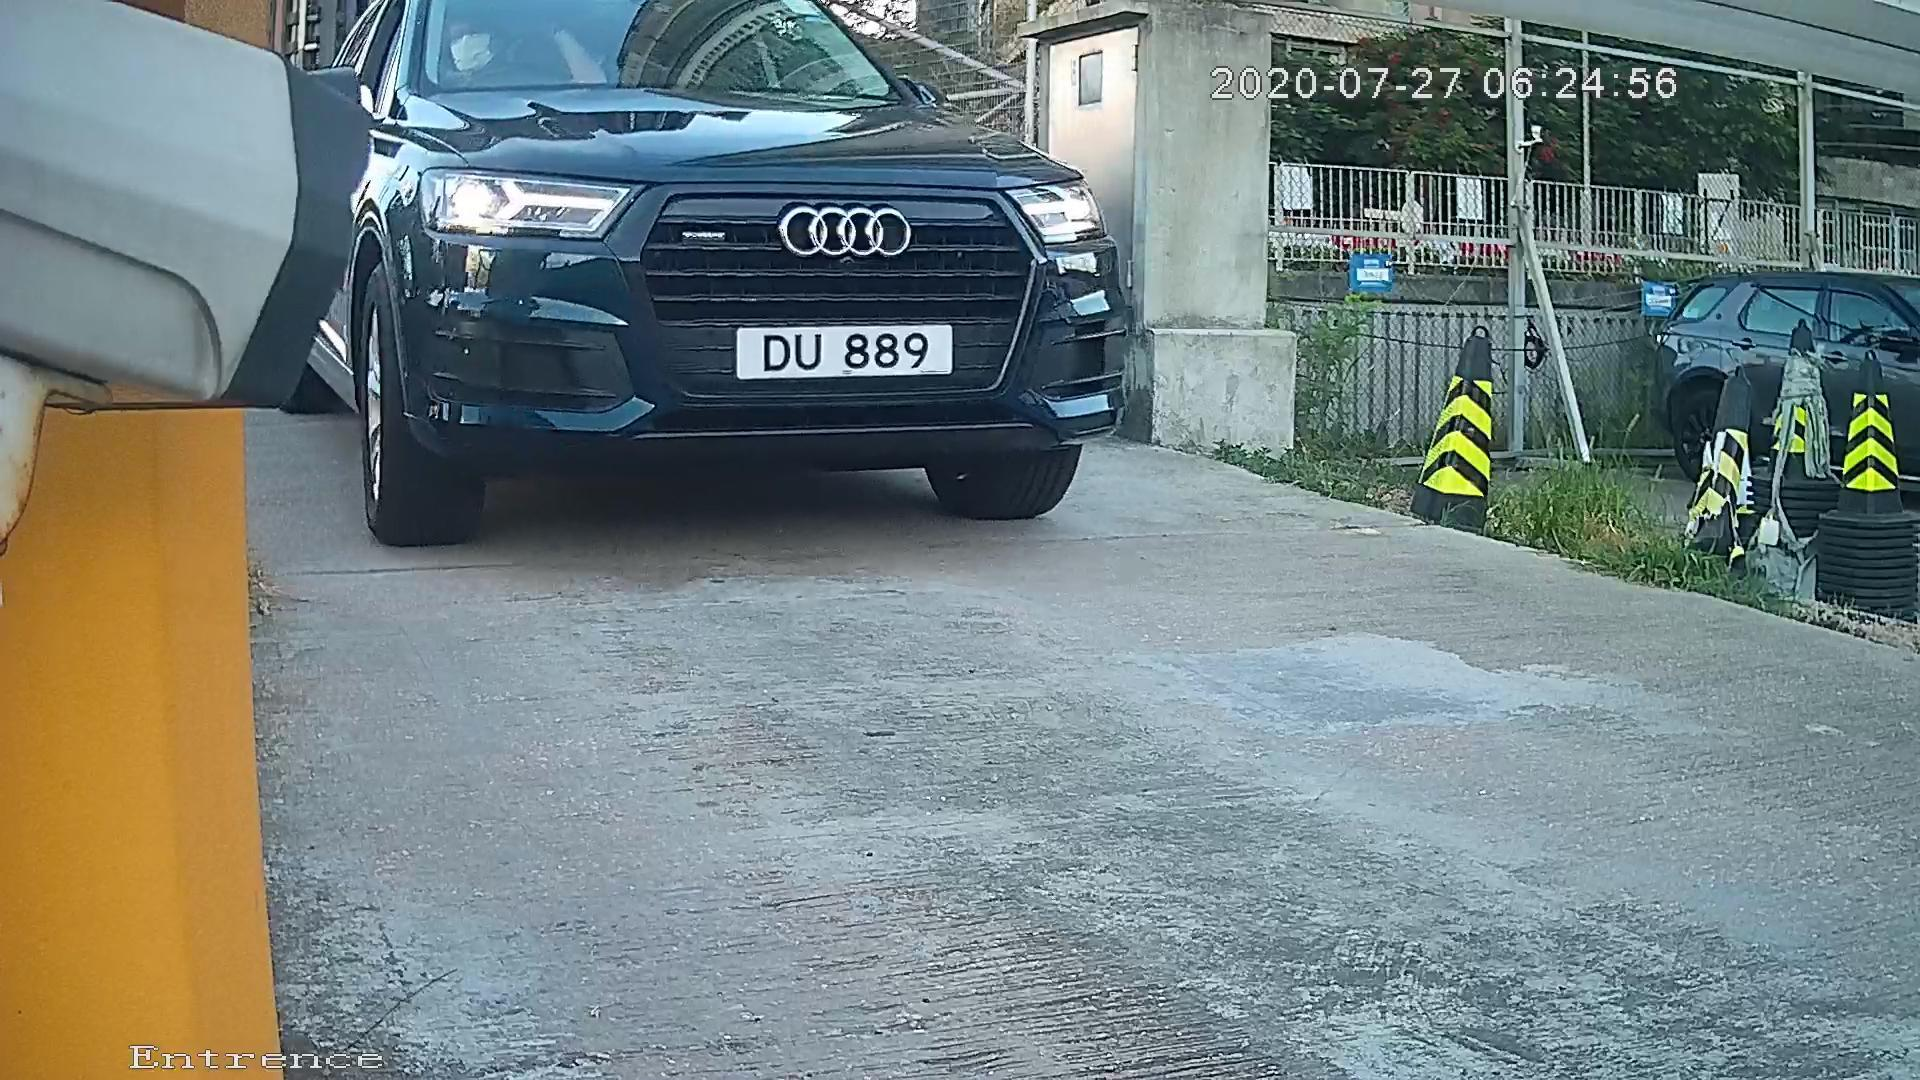License Plate: (695, 299, 969, 401)
